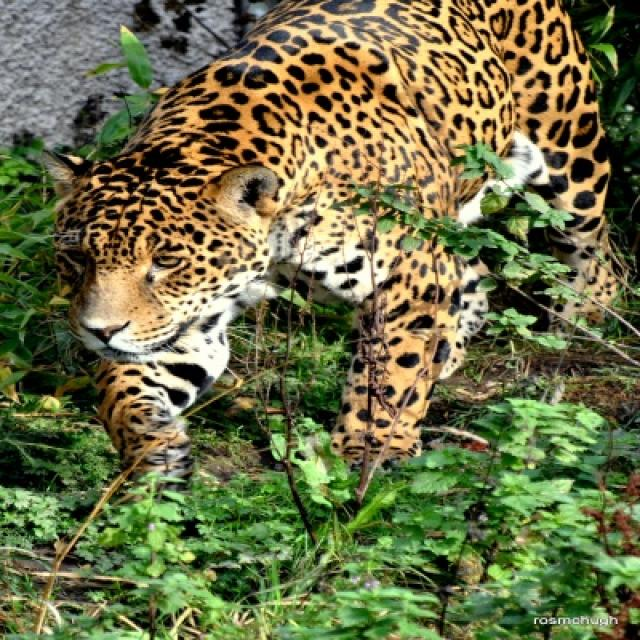Jaguar: (40, 0, 626, 493)
